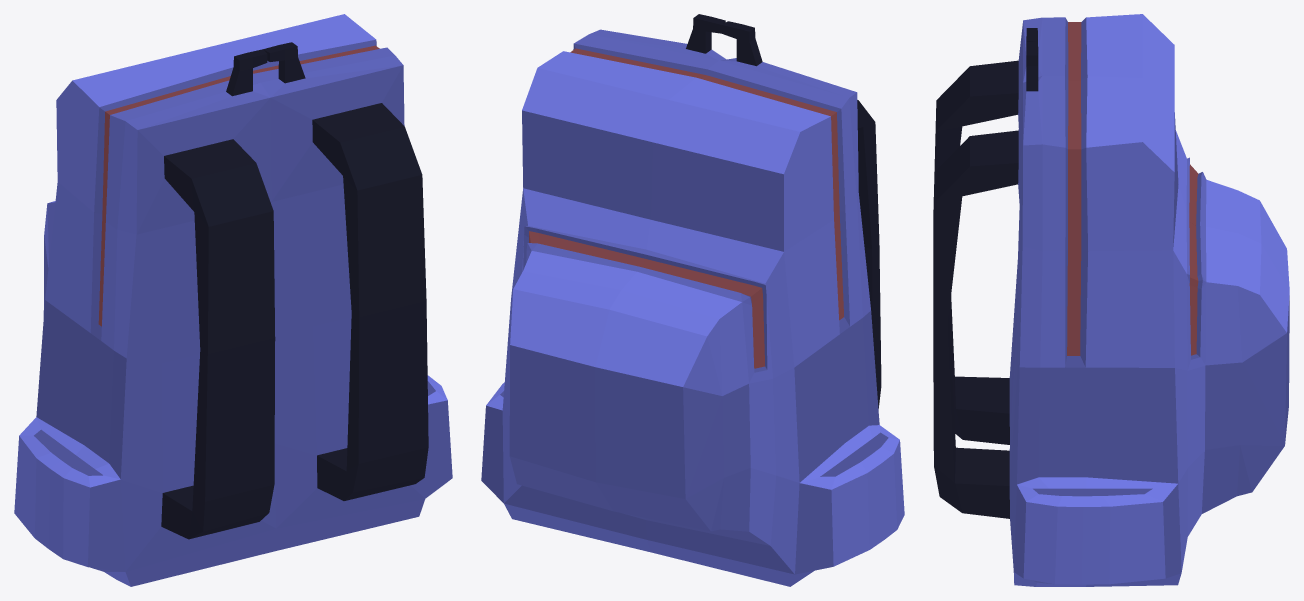
Rendered from Backpack.glb.
3 renders of one model, left to right at view 1: azimuth 30°, elevation 25°; view 2: azimuth 150°, elevation 25°; view 3: azimuth 270°, elevation 25°, orthographic. The views are drawn at different scales.
Parts seen in each view (by area): view 1: Cube; view 2: Cube; view 3: Cube.
Part boxes in pixels (bbox=[...]): Cube: bbox=[14, 14, 452, 586]; Cube: bbox=[481, 14, 904, 586]; Cube: bbox=[933, 14, 1289, 586].
Bounding box in the file's own units: 0.491 × 0.6059 × 0.4105.
